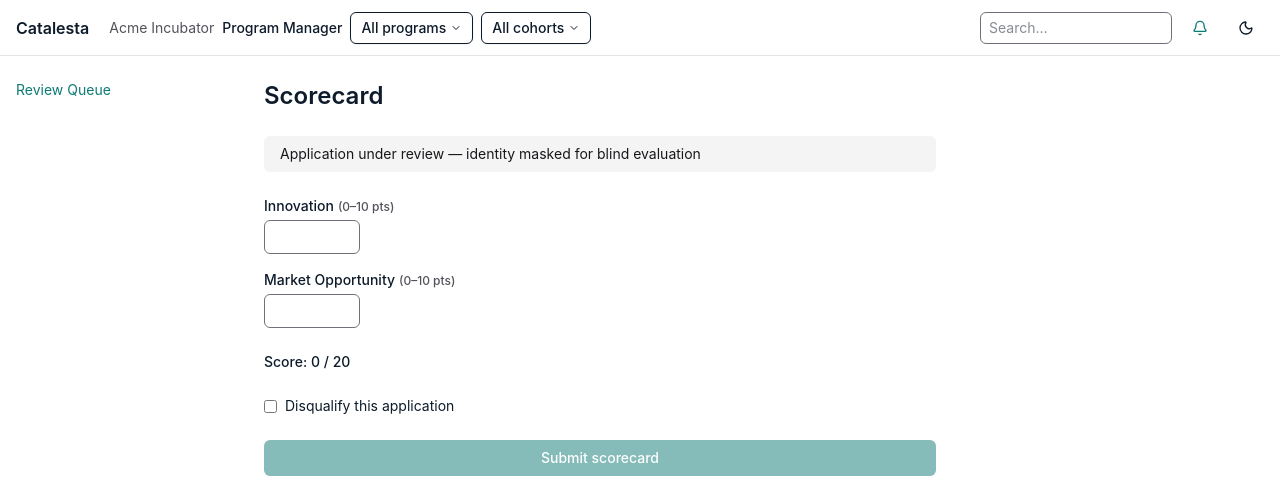
submit is disabled while any criterion is blank, enabled when all filled
Expected: the button "Submit scorecard" is disabled, x1=264 y1=440 x2=936 y2=476
In the number field named "Score for Innovation": (312, 237) x1=264 y1=220 x2=360 y2=254, type "5"
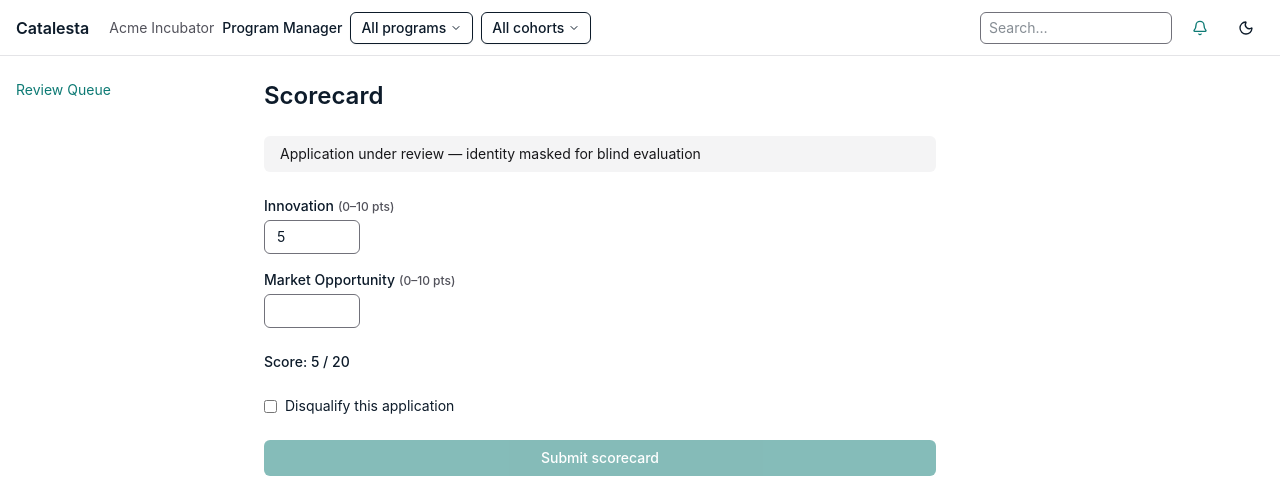
Expected: the button "Submit scorecard" is disabled, x1=264 y1=440 x2=936 y2=476
In the number field named "Score for Market Opportunity": (312, 311) x1=264 y1=294 x2=360 y2=328, type "8"
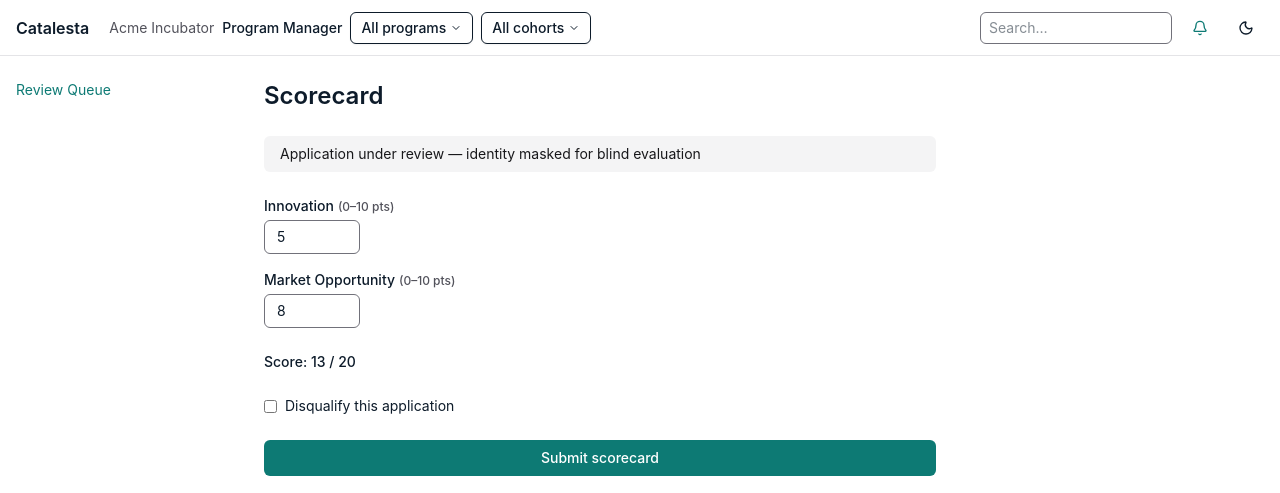
Expected: the button "Submit scorecard" is enabled, x1=264 y1=440 x2=936 y2=476
Clear the number field named "Score for Innovation": (312, 237) x1=264 y1=220 x2=360 y2=254
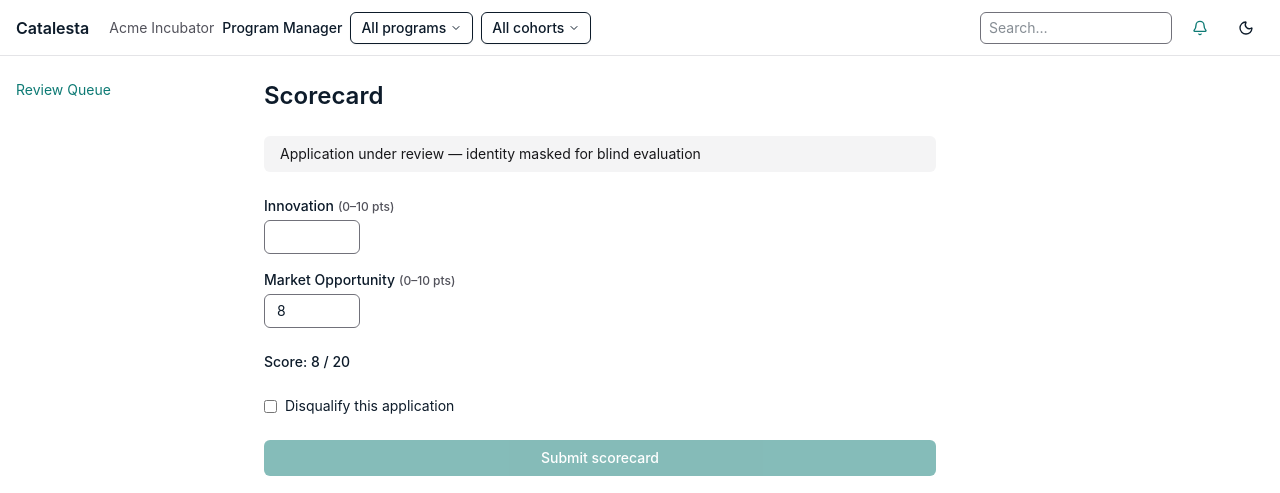
Expected: the button "Submit scorecard" is disabled, x1=264 y1=440 x2=936 y2=476
